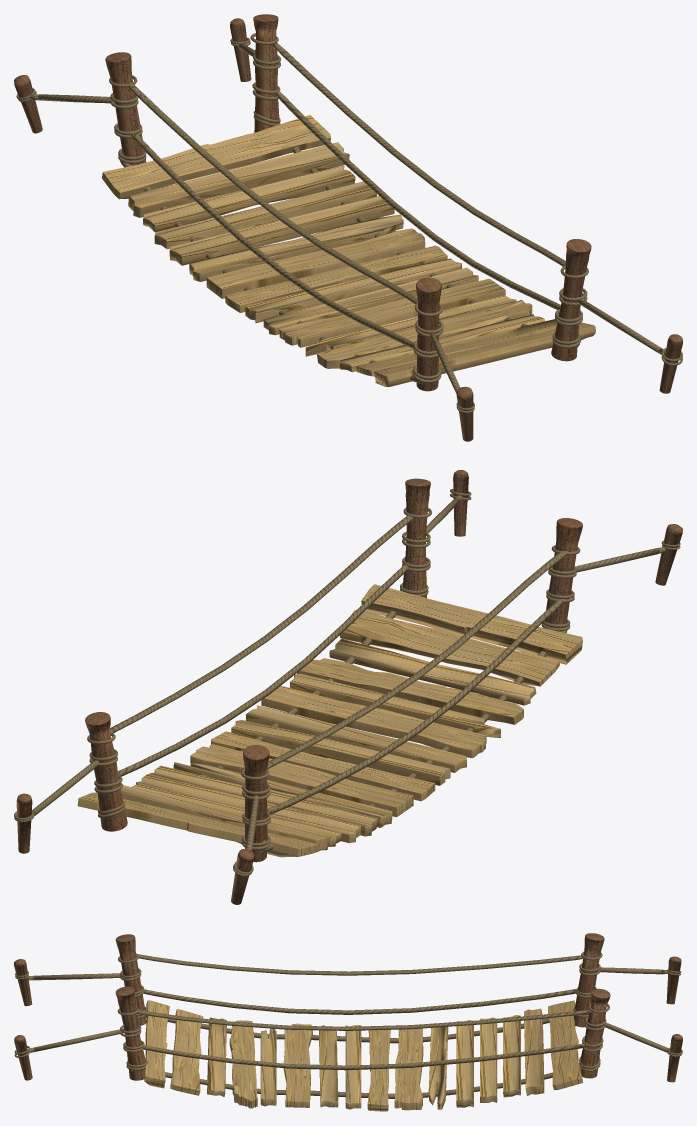
The picture shows the model from 3 angles, top to bottom: view 1: azimuth 30°, elevation 25°; view 2: azimuth 150°, elevation 25°; view 3: azimuth 270°, elevation 25°; orthographic projection. The views are drawn at different scales.
Visible parts, largest first — view 1: woodenplank8_aiStandardSurface11_0; view 2: woodenplank8_aiStandardSurface11_0; view 3: woodenplank8_aiStandardSurface11_0.
Part boxes in pixels (x1,y1,x2,y2): woodenplank8_aiStandardSurface11_0: (14,14,682,441); woodenplank8_aiStandardSurface11_0: (14,470,682,904); woodenplank8_aiStandardSurface11_0: (14,933,682,1111).
Bounding box in the file's own units: 1184 × 697 × 3818.
